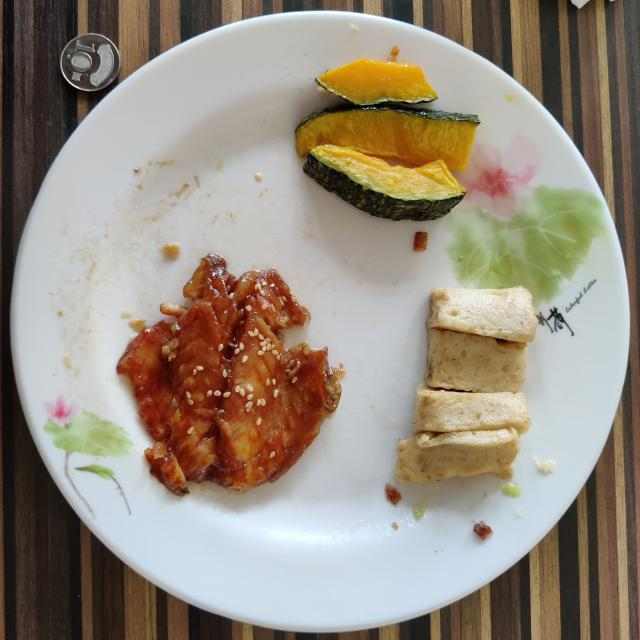Kabayaki sea bream fillet: (118, 254, 341, 495)
coin: (60, 34, 120, 91)
creamy tofu -without sauce-: (396, 286, 538, 481)
pumpkin: (295, 59, 480, 221)
